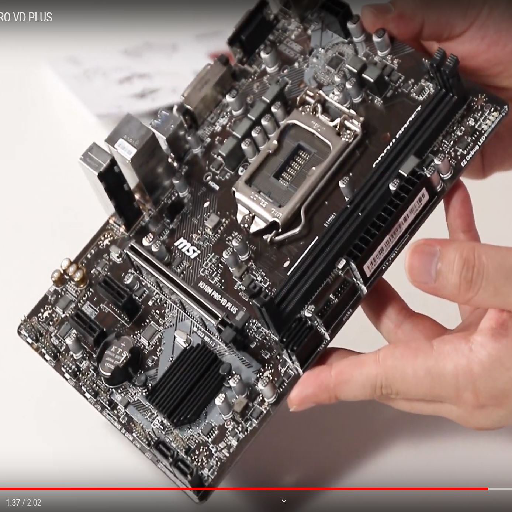CPU: (232, 87, 363, 249)
GPU: (122, 240, 245, 349)
MOTHERBOARD: (14, 1, 508, 484)
RAM: (251, 50, 466, 337)
